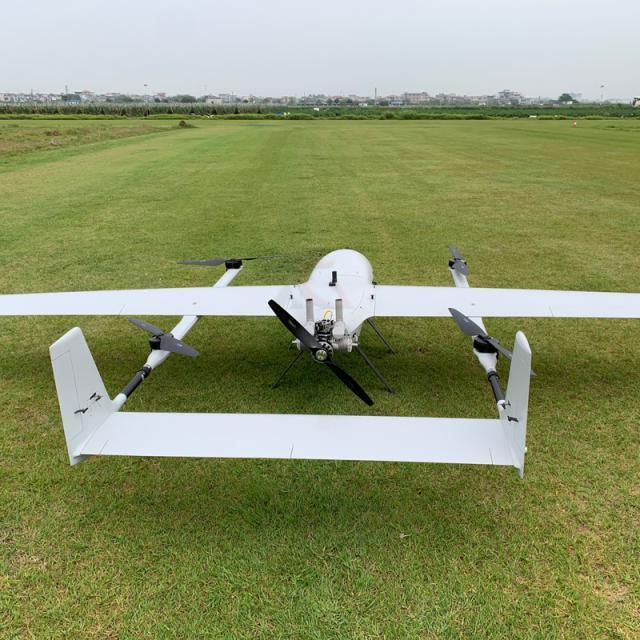iha: (0, 233, 639, 516)
